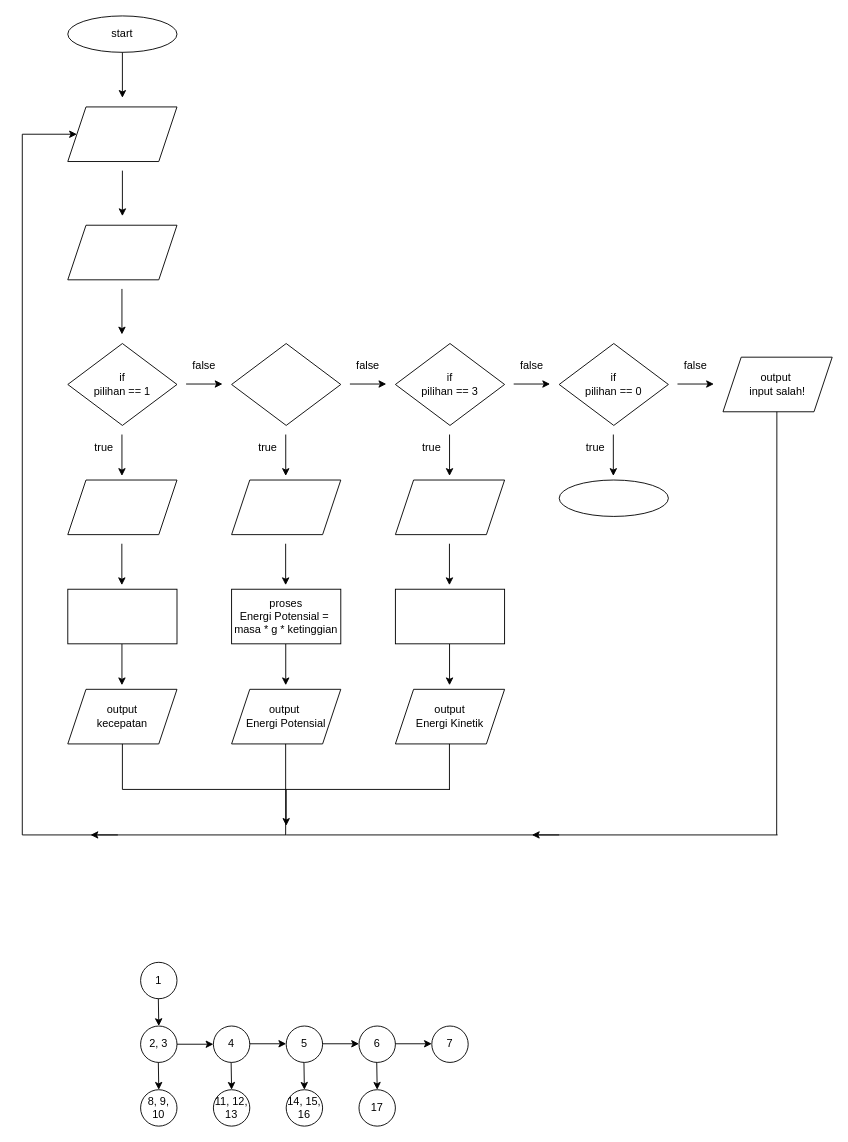
Image size: 848x1142. Some labels were removed from this diagram. The shapes that lost their labels are listed below. From the top down, each one's centre as x and y in pixels, then its label:
At pixel 122 134: "output pilihan-pilihan".
At pixel 122 252: "input pilihan (1, 2, 3, 0(exit))".
At pixel 286 384: "if pilihan == 2".
At pixel 122 507: "input jarak, waktu".
At pixel 286 507: "input massa, g, ketinggian".
At pixel 449 507: "input massa, kecepatan".
At pixel 613 497: "end".
At pixel 122 616: "proses kecepatan = jarak / waktu".
At pixel 449 616: "proses Energi Potensial = 0.5 * massa * kec^2".
